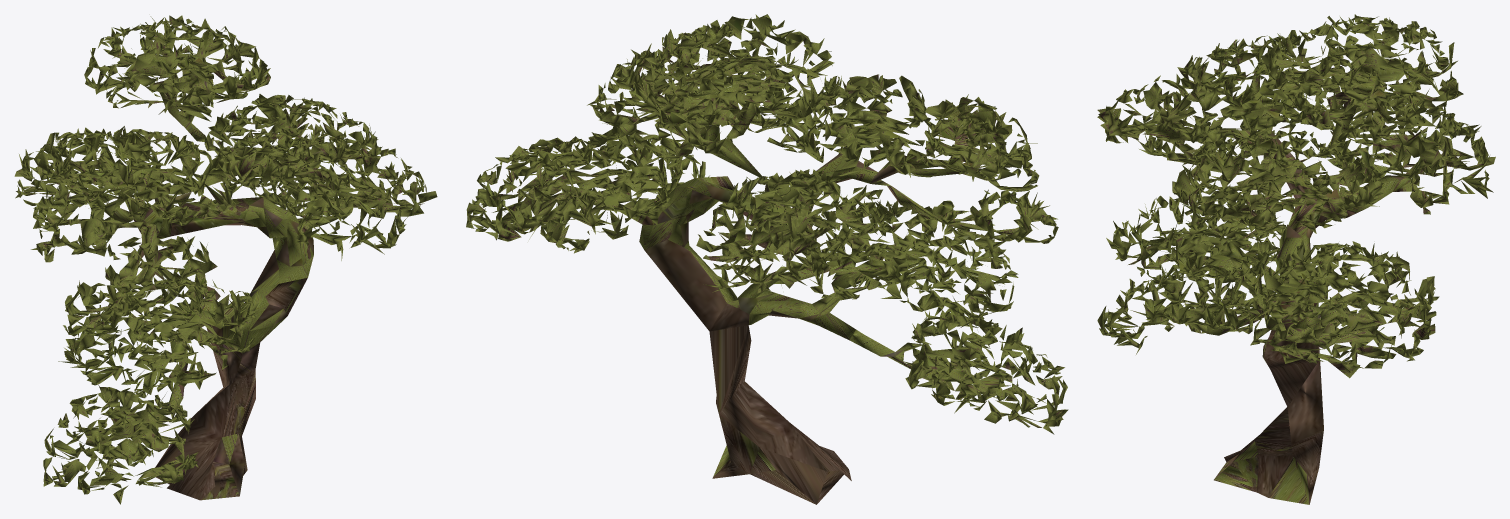
The model's file is lib_bonsai.mid.glb.
3 renders of one model, left to right at view 1: azimuth 30°, elevation 25°; view 2: azimuth 150°, elevation 25°; view 3: azimuth 270°, elevation 25°, orthographic. The views are drawn at different scales.
Visible parts, largest first — view 1: output_unwrapped; view 2: output_unwrapped; view 3: output_unwrapped.
Boxes of the visible parts, left/top/right/bottom form: output_unwrapped: left=14, top=15, right=437, bottom=504; output_unwrapped: left=466, top=14, right=1068, bottom=504; output_unwrapped: left=1097, top=14, right=1495, bottom=504.
Bounding box in the file's own units: 1.96 × 1.8 × 1.43.
1 material, 1 textured.
